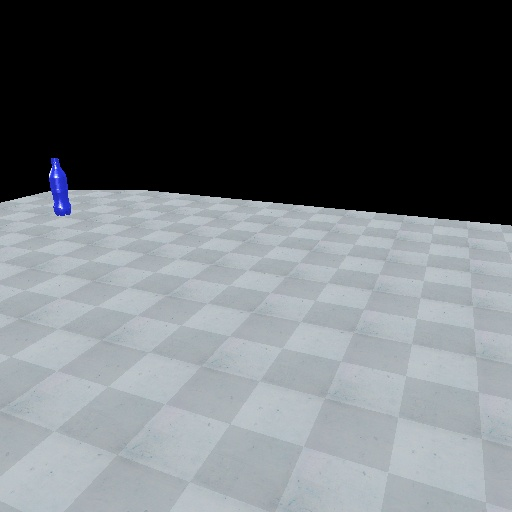bottle: (47, 157, 73, 218)
